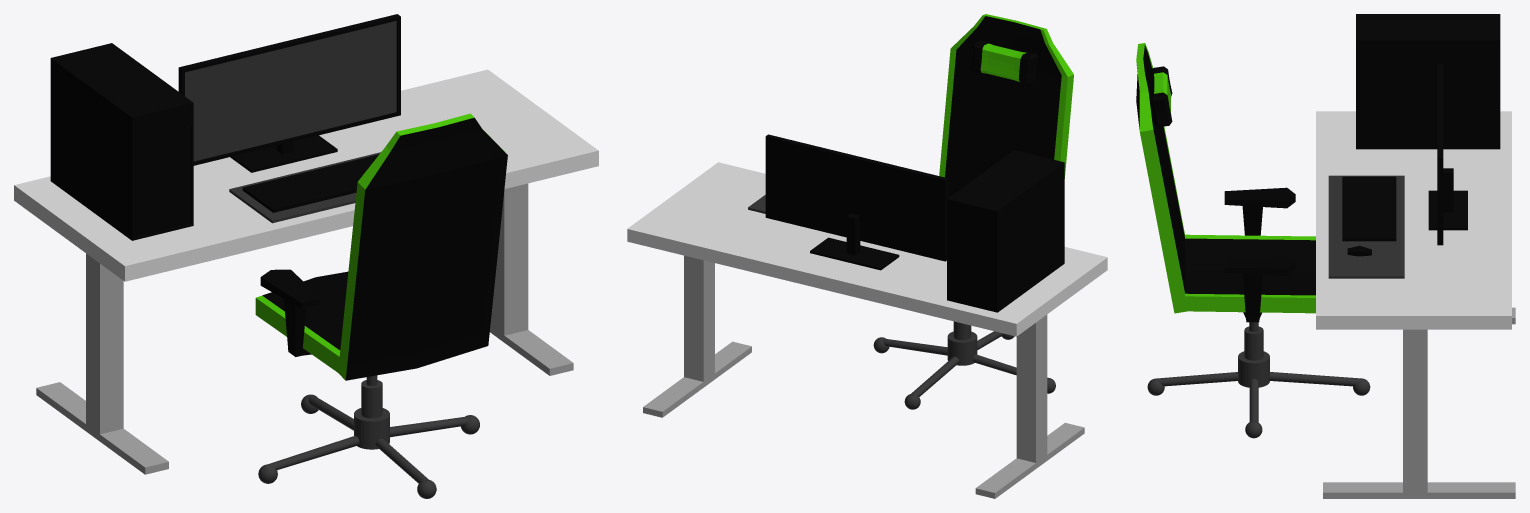
Rendered from TietokonePoyta.fbx.
3 renders of one model, left to right at view 1: azimuth 30°, elevation 25°; view 2: azimuth 150°, elevation 25°; view 3: azimuth 270°, elevation 25°, orthographic. The views are drawn at different scales.
Parts seen in each view (by area): view 1: PöytäKokonaisuus.007; view 2: PöytäKokonaisuus.007; view 3: PöytäKokonaisuus.007.
Boxes of the visible parts, <box> form: PöytäKokonaisuus.007: <box>14,14,598,498</box>; PöytäKokonaisuus.007: <box>627,14,1107,498</box>; PöytäKokonaisuus.007: <box>1136,14,1515,498</box>.
Size of the model in its own units: 342 by 262 by 268.
